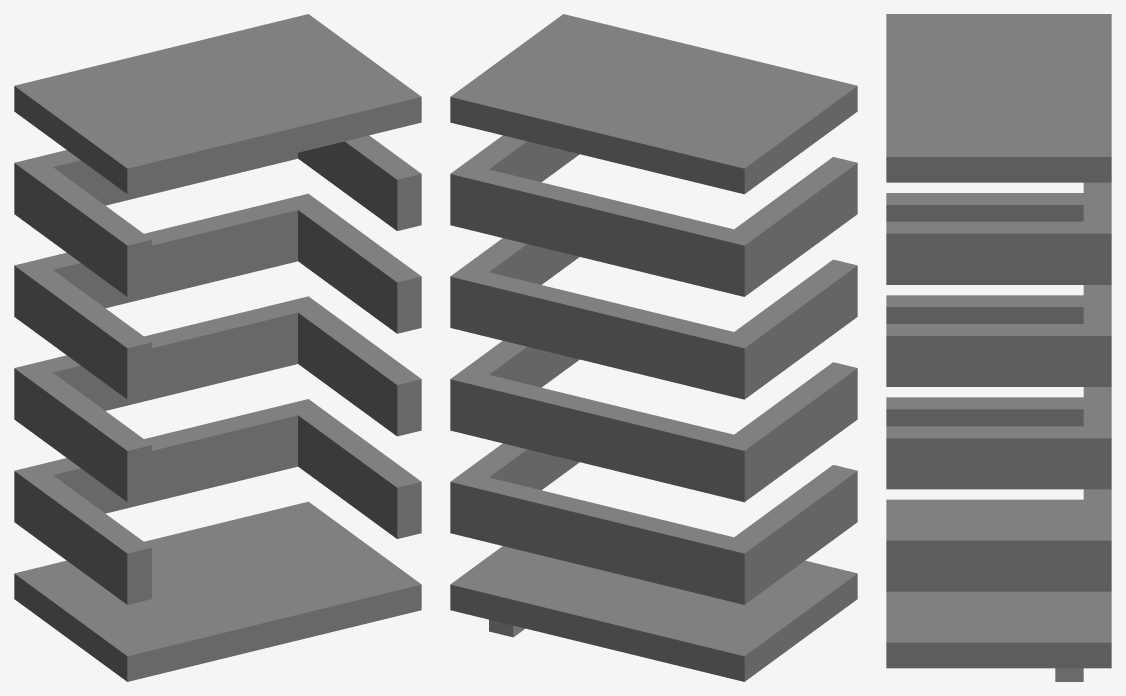
Rendered from alien_lift.obj.
3 views of the same model, side by side, from view 1: azimuth 30°, elevation 25°; view 2: azimuth 150°, elevation 25°; view 3: azimuth 270°, elevation 25° (orthographic).
Size of the model in its own units: 12 by 21 by 8.
